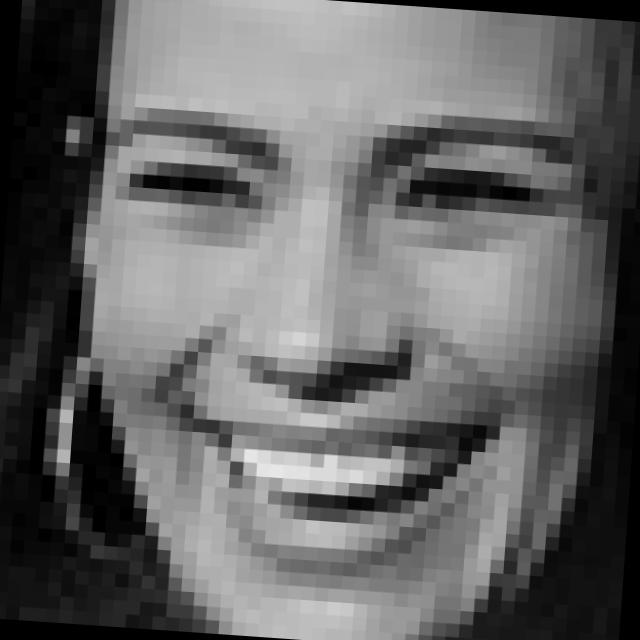happy: (72, 80, 587, 597)
